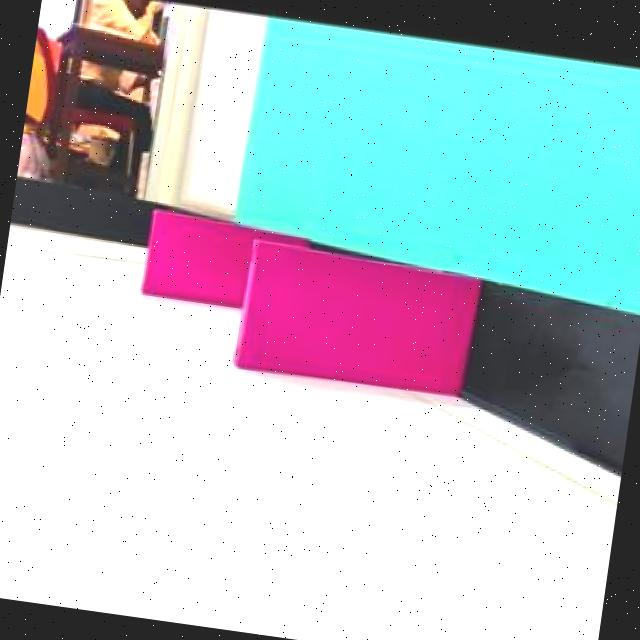xparking: (242, 236, 479, 394), (142, 209, 250, 310)
